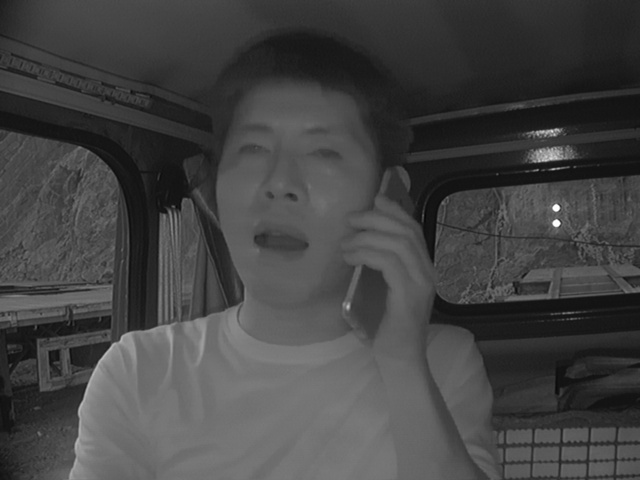hand: (347, 196, 443, 354)
